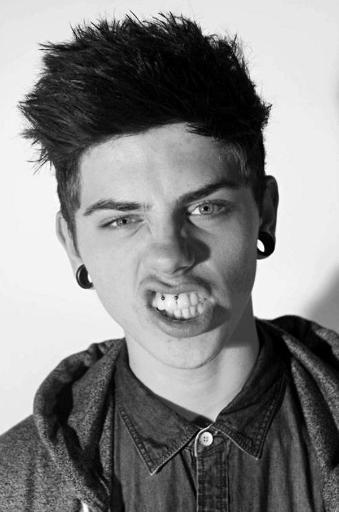left_eye: (188, 200, 234, 221)
left_lip_corner: (205, 291, 218, 305)
right_eye: (98, 215, 148, 233)
right_lip_corner: (142, 301, 158, 315)
